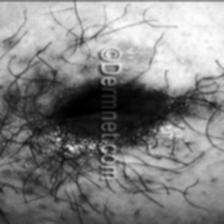Non-Cancerous Skin Condition: (48, 85, 177, 141), (32, 61, 98, 83), (118, 42, 146, 60)
